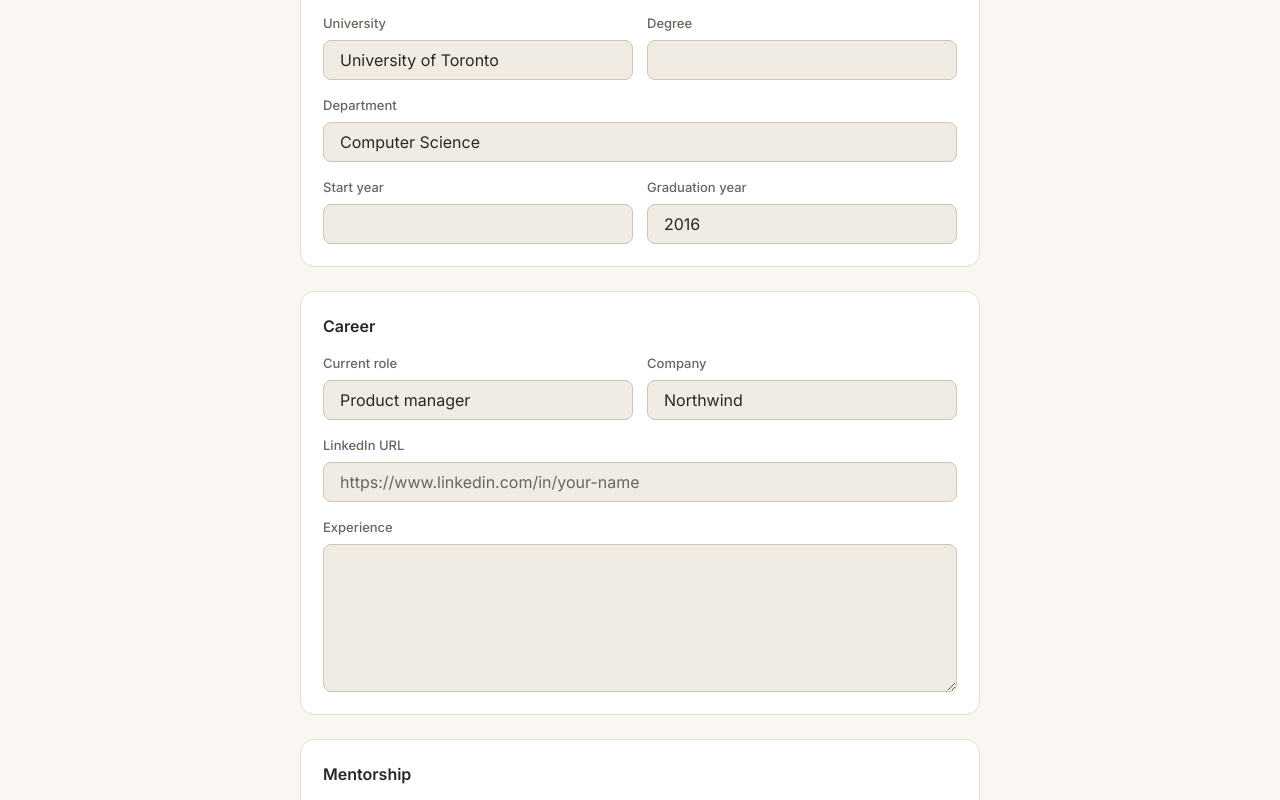
Test: MePage saving › never sends photo_url when the profile has no photo
(page scrolled)
Replace the text in the field labelled "Current role" with "Lead" at (478, 400), box left=323, top=380, right=633, bottom=420
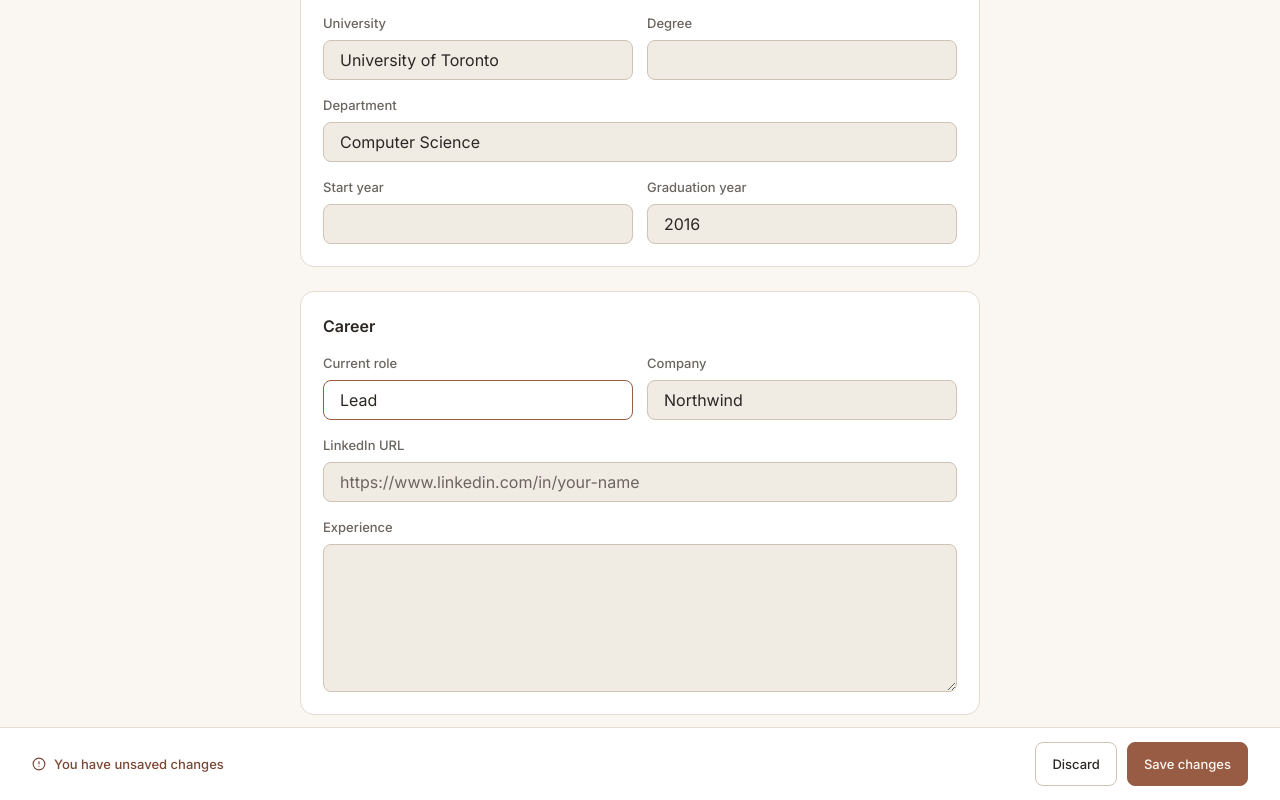
Click the button "Save changes".
click(1187, 764)  # box left=1127, top=742, right=1248, bottom=786
(page scrolled)
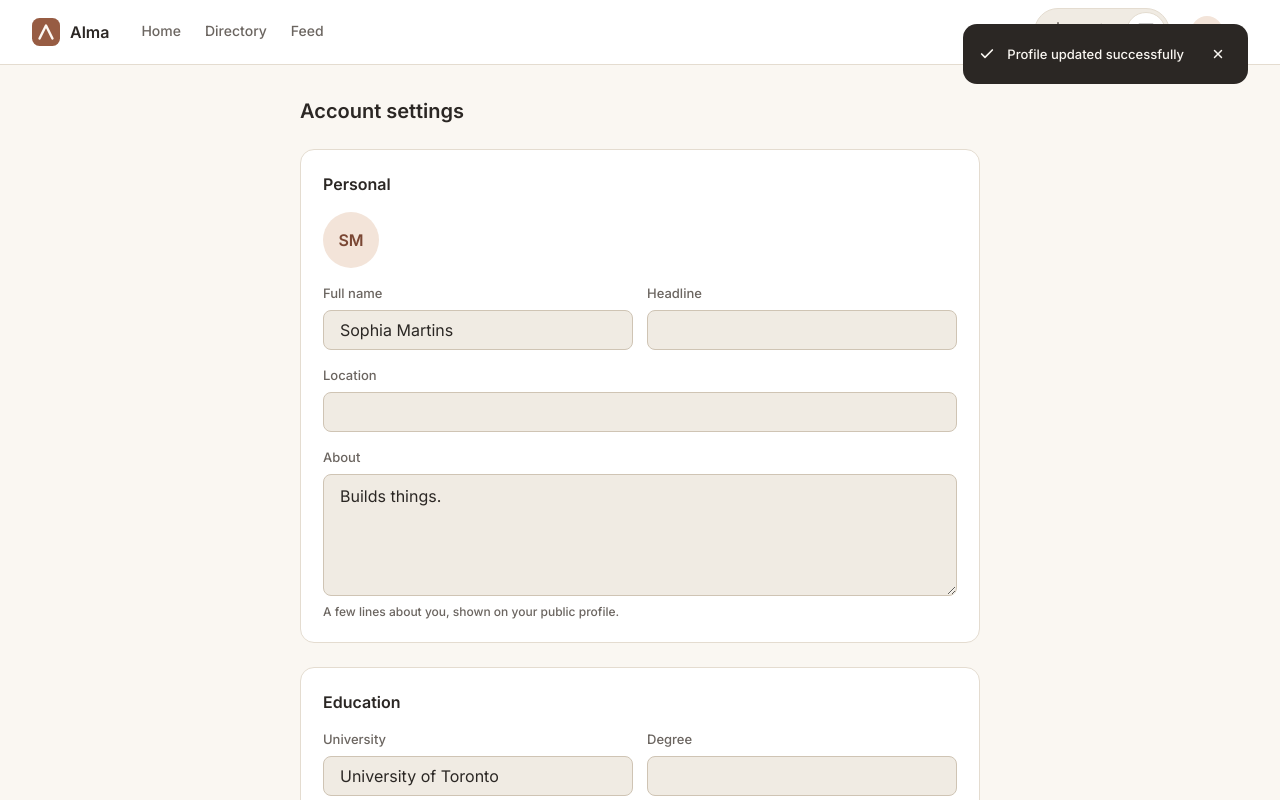
Now the text "Profile updated successfully" is shown, box left=1007, top=45, right=1184, bottom=63
